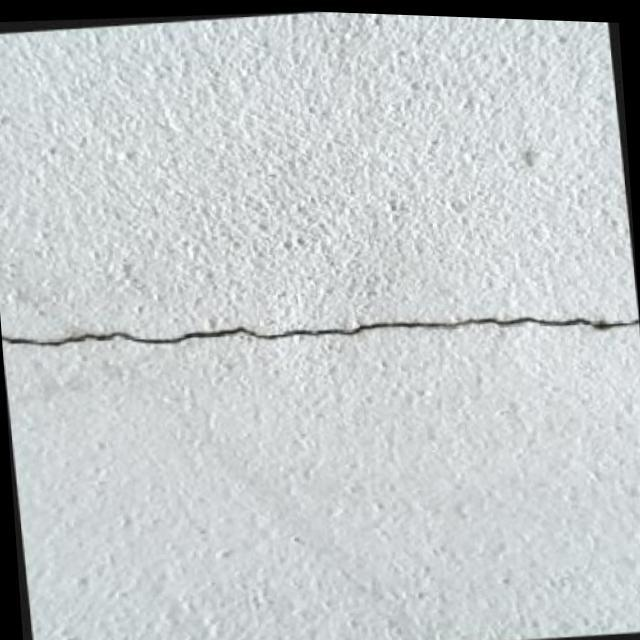Crack: (4, 312, 631, 348)
